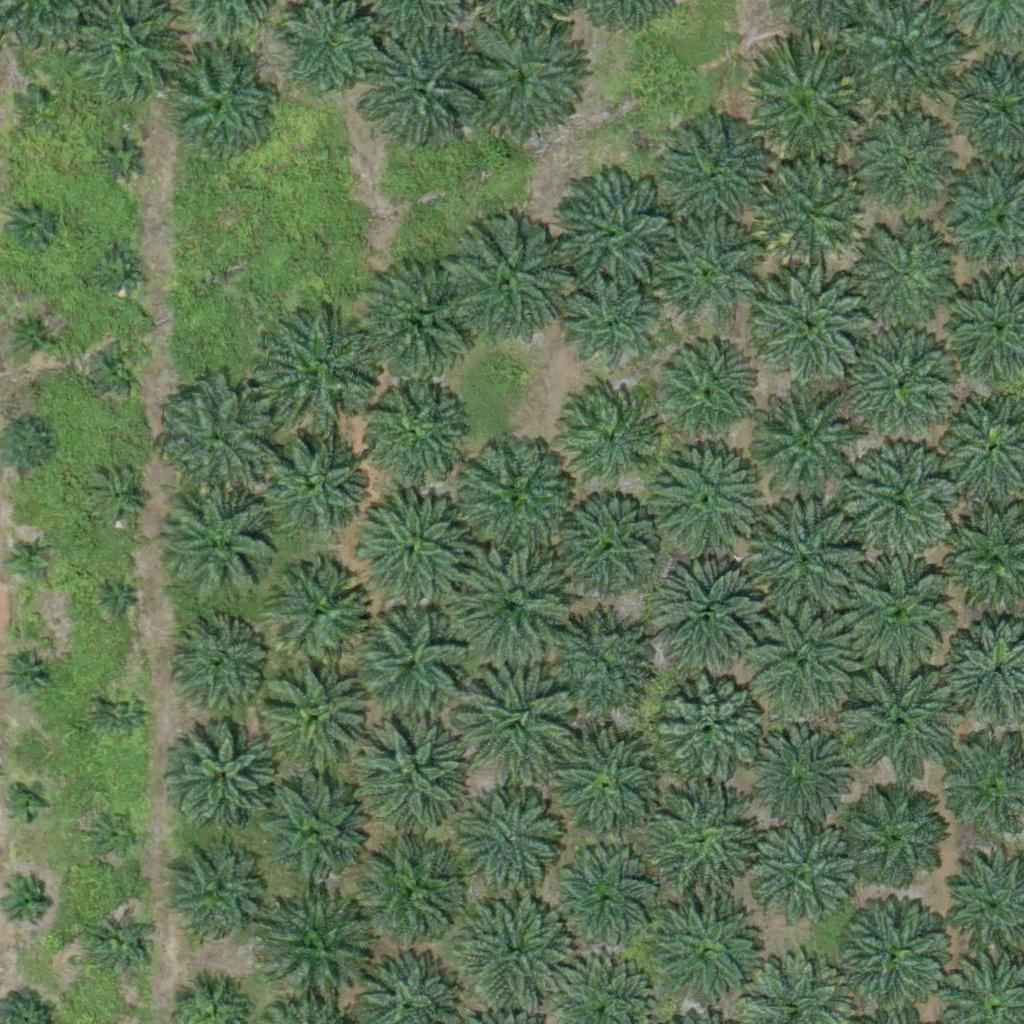Kelapa_Sawit: (359, 28, 484, 154), (462, 17, 587, 143), (549, 171, 674, 297), (443, 224, 568, 350), (260, 309, 385, 435), (450, 542, 575, 668), (452, 432, 577, 558), (638, 783, 763, 909), (648, 893, 773, 1019), (347, 710, 472, 836), (454, 658, 579, 784), (742, 46, 867, 171), (362, 263, 475, 377), (462, 895, 575, 1009), (164, 48, 277, 161), (756, 265, 869, 378), (753, 392, 866, 505), (747, 505, 860, 618), (646, 439, 759, 552), (746, 613, 859, 726), (840, 556, 953, 669), (352, 490, 465, 603), (351, 607, 464, 720), (838, 896, 951, 1009), (844, 671, 957, 784), (740, 716, 853, 829), (647, 561, 759, 675), (354, 839, 466, 953), (262, 895, 374, 1009), (258, 779, 370, 893), (261, 662, 373, 776), (849, 1, 961, 114), (847, 217, 959, 330), (848, 327, 960, 440), (846, 443, 958, 556), (161, 382, 273, 495), (170, 488, 282, 601), (749, 825, 861, 938), (655, 674, 767, 787), (550, 728, 662, 841), (854, 110, 954, 211), (760, 160, 860, 261), (670, 122, 770, 223), (658, 220, 758, 321), (654, 341, 754, 442), (560, 273, 660, 374), (263, 432, 363, 533), (269, 560, 369, 661), (846, 788, 946, 889), (553, 856, 653, 957), (465, 796, 565, 897), (558, 388, 658, 488), (556, 497, 656, 597), (541, 620, 641, 720), (362, 381, 462, 481), (174, 726, 274, 826), (162, 852, 262, 952), (179, 622, 266, 710), (93, 917, 155, 980), (93, 471, 143, 522), (9, 306, 59, 357), (98, 689, 148, 739), (7, 197, 57, 247), (93, 344, 143, 394), (96, 134, 146, 184), (92, 245, 142, 295), (15, 80, 65, 130), (4, 534, 54, 584), (87, 808, 137, 858), (3, 648, 53, 698), (7, 783, 45, 821), (105, 589, 130, 614)
